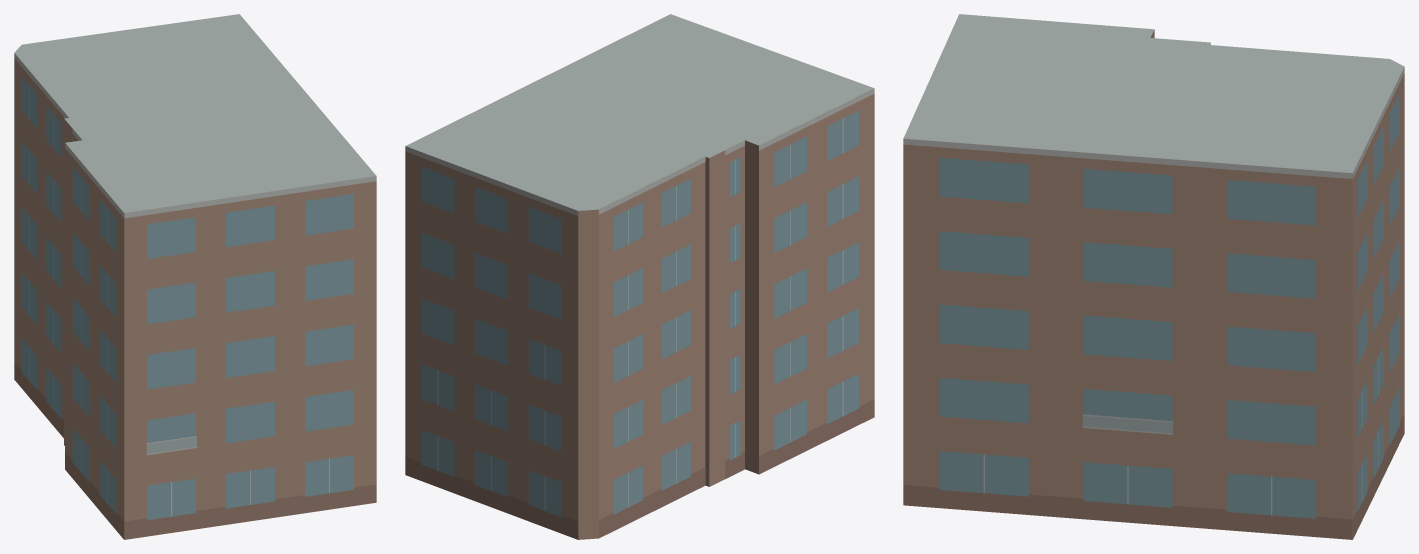
File: survey-upis-32663122.glb
3 views of the same model, side by side, from view 1: azimuth 30°, elevation 25°; view 2: azimuth 150°, elevation 25°; view 3: azimuth 270°, elevation 25° (orthographic). The views are drawn at different scales.
Visible parts, largest first — view 1: survey-upis-32663122.tmp; view 2: survey-upis-32663122.tmp; view 3: survey-upis-32663122.tmp.
Part boxes in pixels (x1,y1,x2,y2): survey-upis-32663122.tmp: [14, 14, 376, 539]; survey-upis-32663122.tmp: [405, 14, 874, 539]; survey-upis-32663122.tmp: [903, 14, 1404, 539].
Size of the model in its own units: 14.21 by 15.25 by 18.91.
